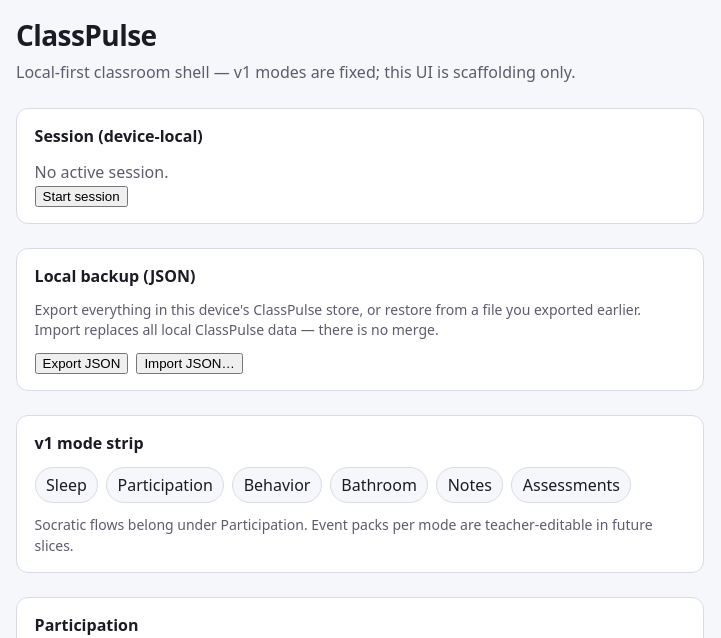
Scenario: BehaviorPanel › returns to the no-active-session empty state after the session is ended
Step 1. Click the button "Start session" → (81, 196), box [35,186,128,207]
(page scrolled)
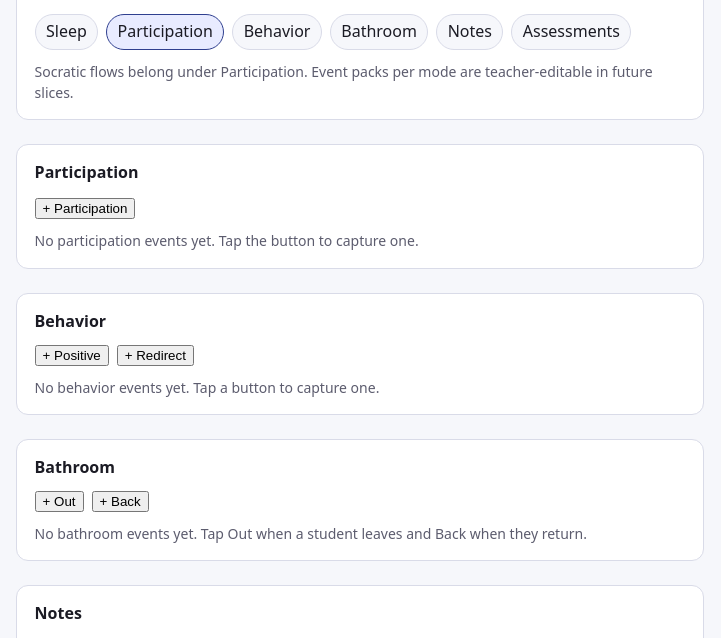
Step 2. Click the button "+ Positive" → (72, 355), box [35,345,109,366]
(page scrolled)
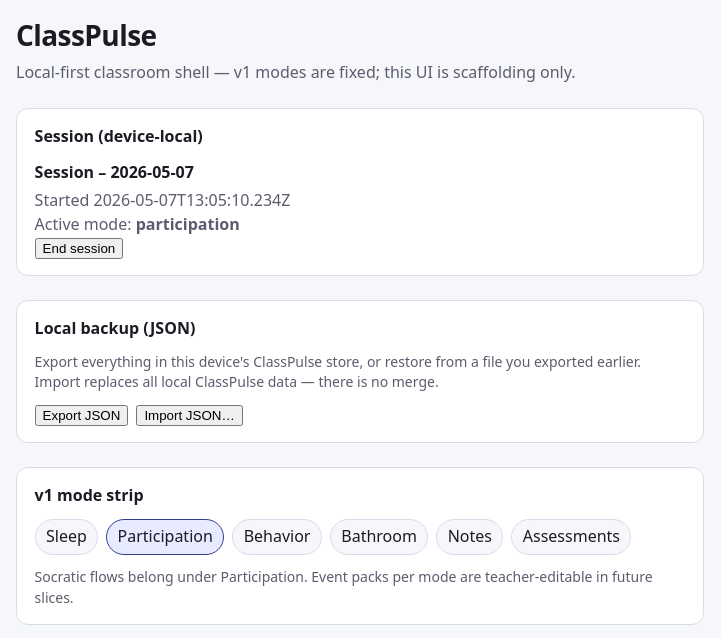
Step 3. Click the button "End session" → (79, 248), box [35,238,123,259]
(page scrolled)
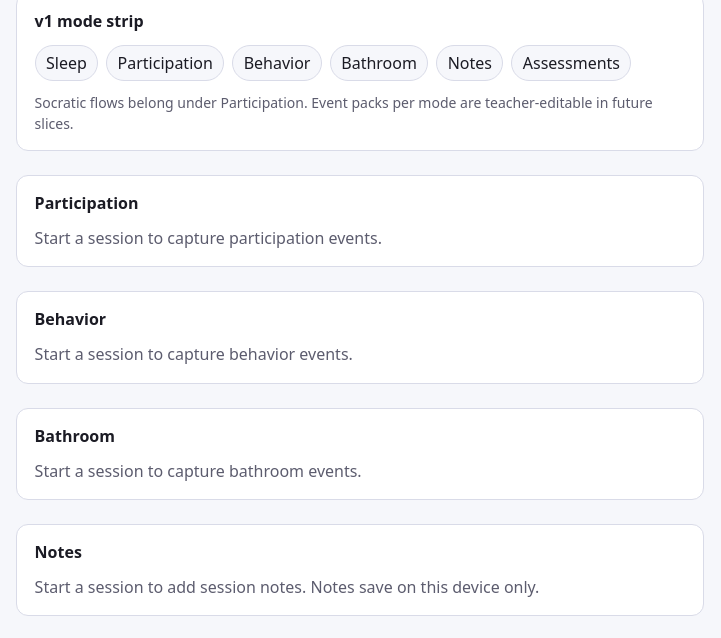
Check: the button "+ Positive" is not shown
Check: the text "Start a session to capture behavior events." is shown, box [35,343,353,365]
